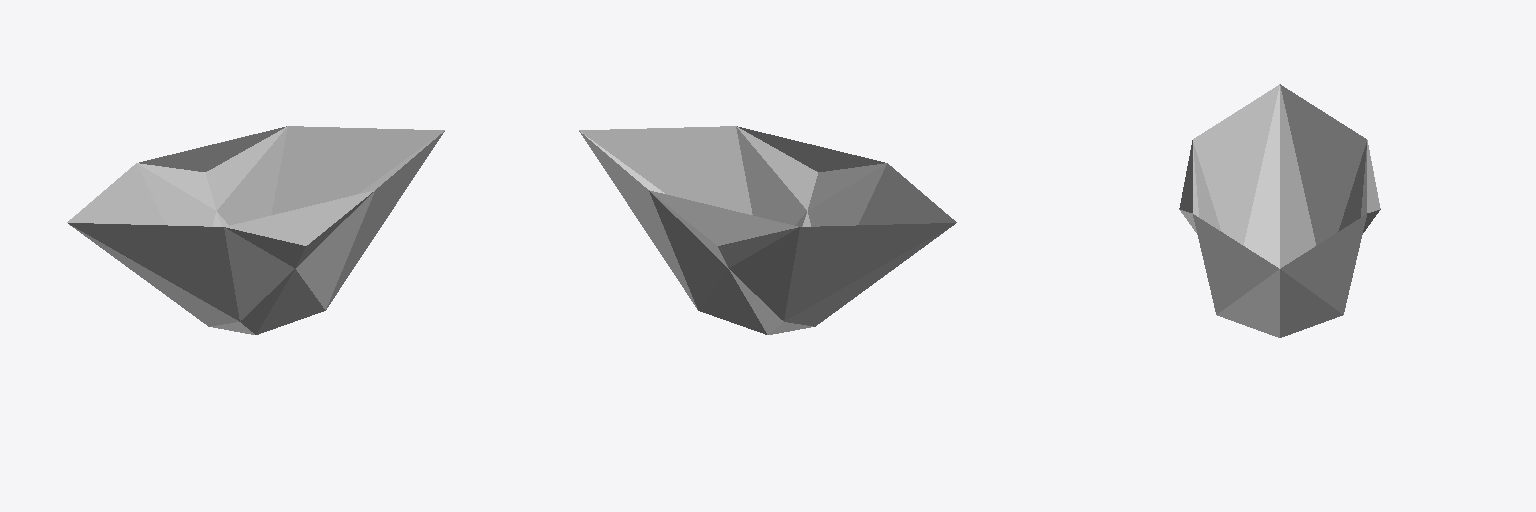
File: silicon_leg_gem.obj
3 renders of one model, left to right at view 1: azimuth 30°, elevation 25°; view 2: azimuth 150°, elevation 25°; view 3: azimuth 270°, elevation 25°, orthographic.
Visible parts, largest first — view 1: SiliconLegGem; view 2: SiliconLegGem; view 3: SiliconLegGem.
Boxes of the visible parts, x1=… form: SiliconLegGem: x1=67, y1=126, x2=444, y2=334; SiliconLegGem: x1=579, y1=126, x2=956, y2=334; SiliconLegGem: x1=1179, y1=84, x2=1380, y2=337.
Size of the model in its own units: 2 by 0.802 by 0.9219.